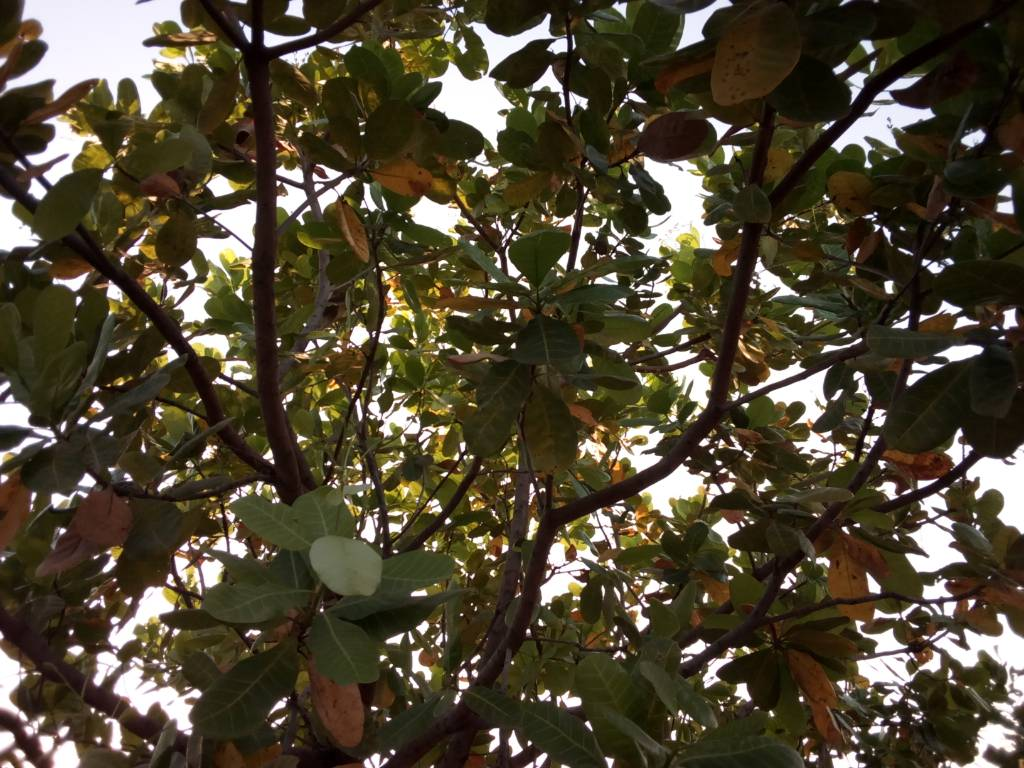Anthracnose: (708, 1, 811, 109), (363, 162, 436, 205), (335, 197, 374, 266)
